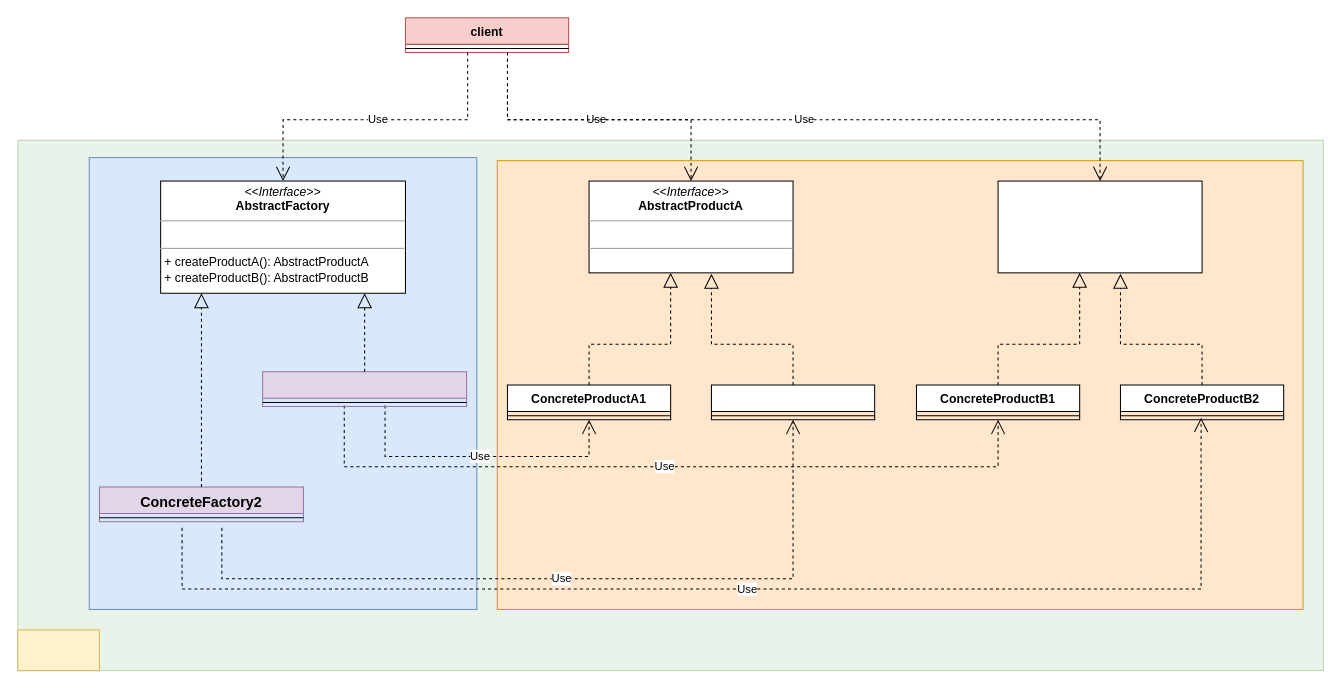
This 1341x689 diagram has some shape labels left out. The shapes that lost their labels are listed below. From the top down, each one's centre as x and y in pixels, then its label:
At (x=1099, y=226): "<<Interface>> AbstractProductB".
At (x=364, y=388): "ConcreteFactory1".
At (x=792, y=402): "ConcreteProductA2".
At (x=58, y=650): "抽象工厂".
